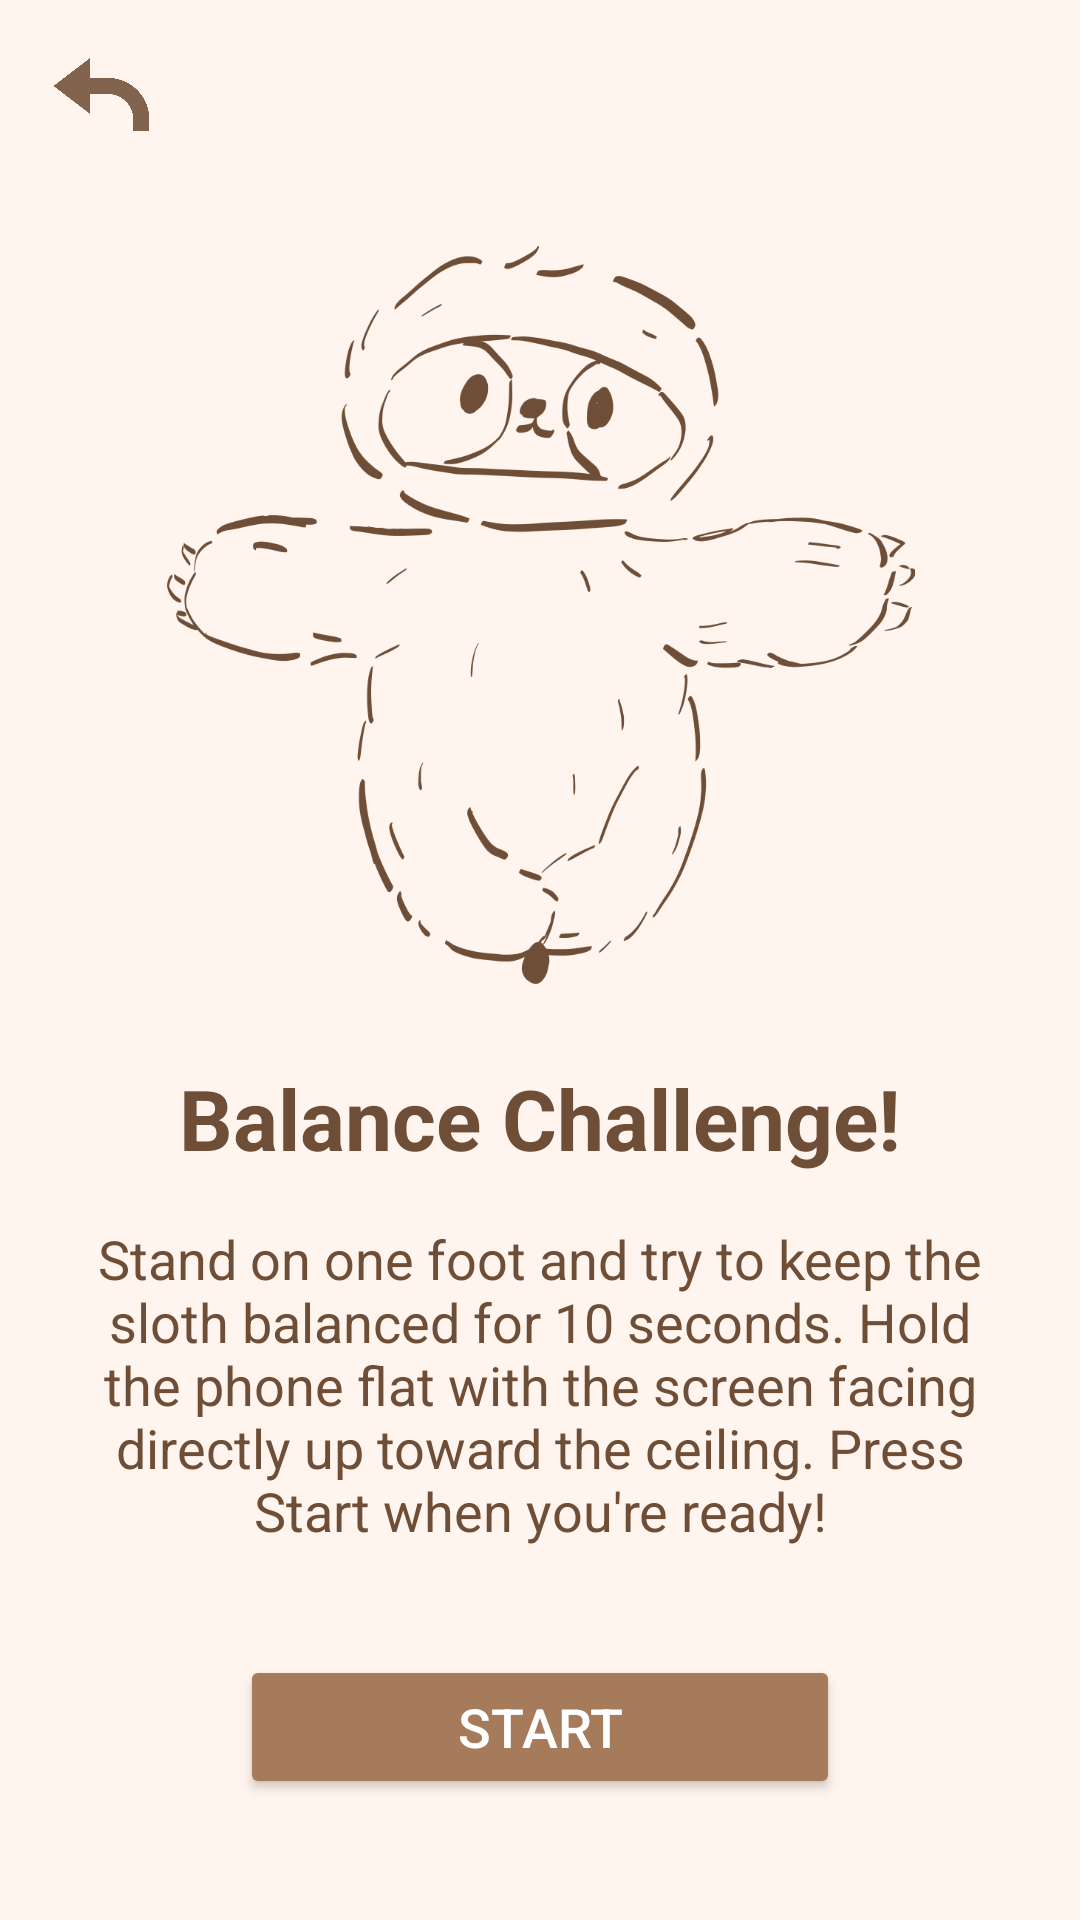

Locate icon controls on the screen. Image size 1080x1920, boxes as bbox(x1, y1, x2, y2).
back arrow: bbox(54, 58, 149, 131)
